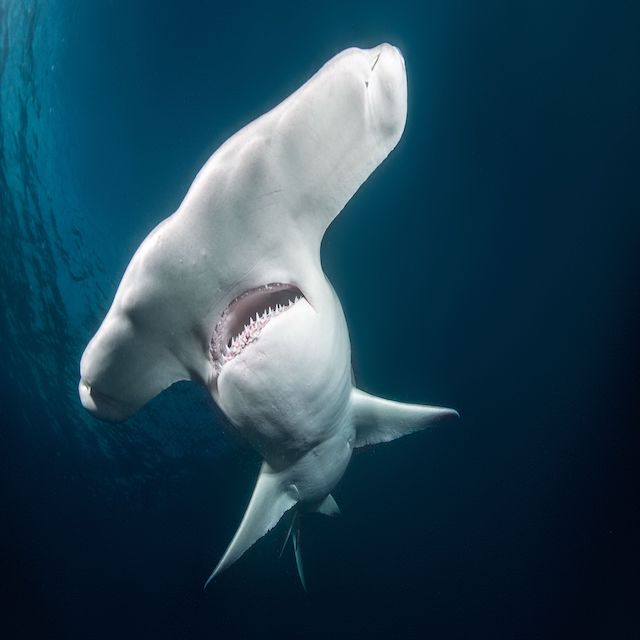hammerhead: (65, 36, 466, 463)
